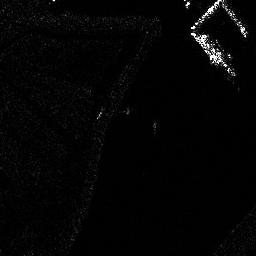ship: (200, 33, 236, 77)
